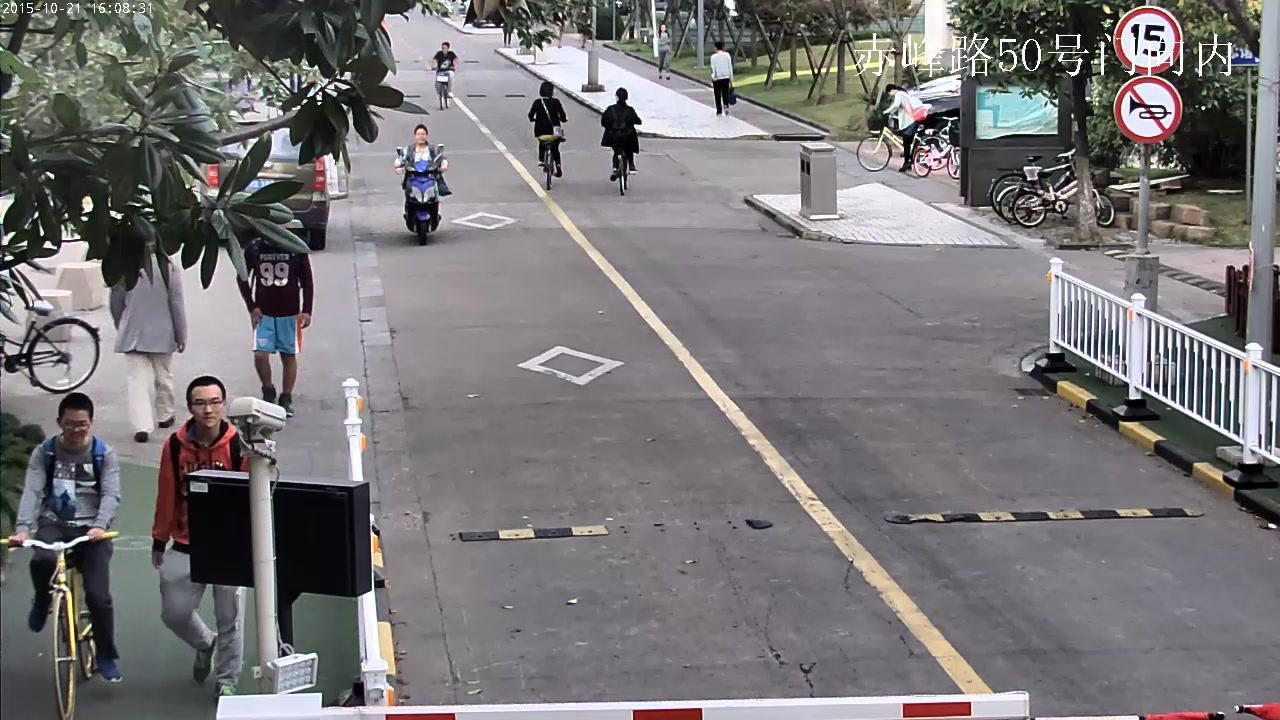person: (0, 390, 123, 720), (152, 374, 258, 707), (7, 391, 123, 684), (108, 249, 187, 444), (235, 227, 313, 416), (856, 82, 932, 178), (394, 124, 453, 245), (598, 87, 642, 196), (880, 83, 932, 172), (527, 80, 568, 190), (394, 124, 452, 197), (599, 87, 642, 181), (527, 81, 567, 178), (710, 40, 737, 117), (432, 41, 459, 111), (432, 41, 459, 99), (658, 23, 671, 79), (503, 24, 512, 47)
